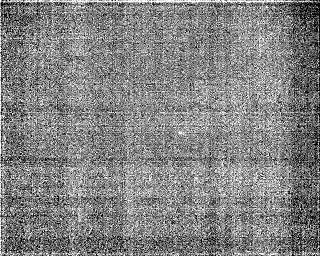AIRPLANE: (177, 129, 185, 139)
